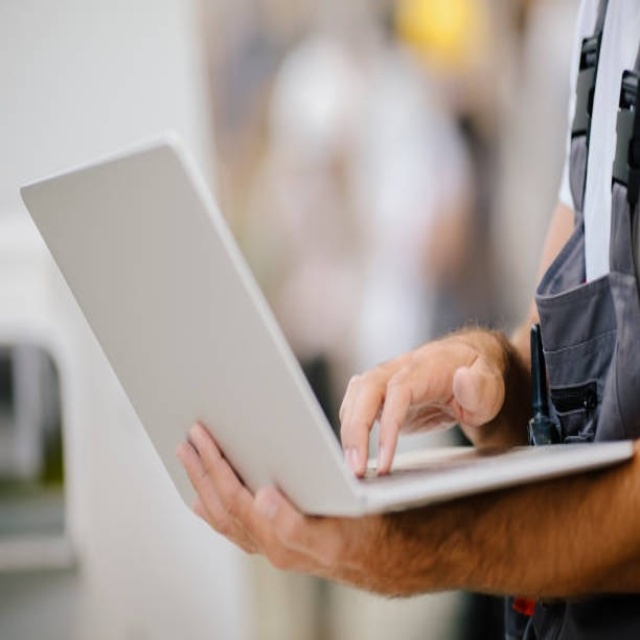Sin_guantes: (175, 415, 342, 579), (336, 326, 513, 480)
